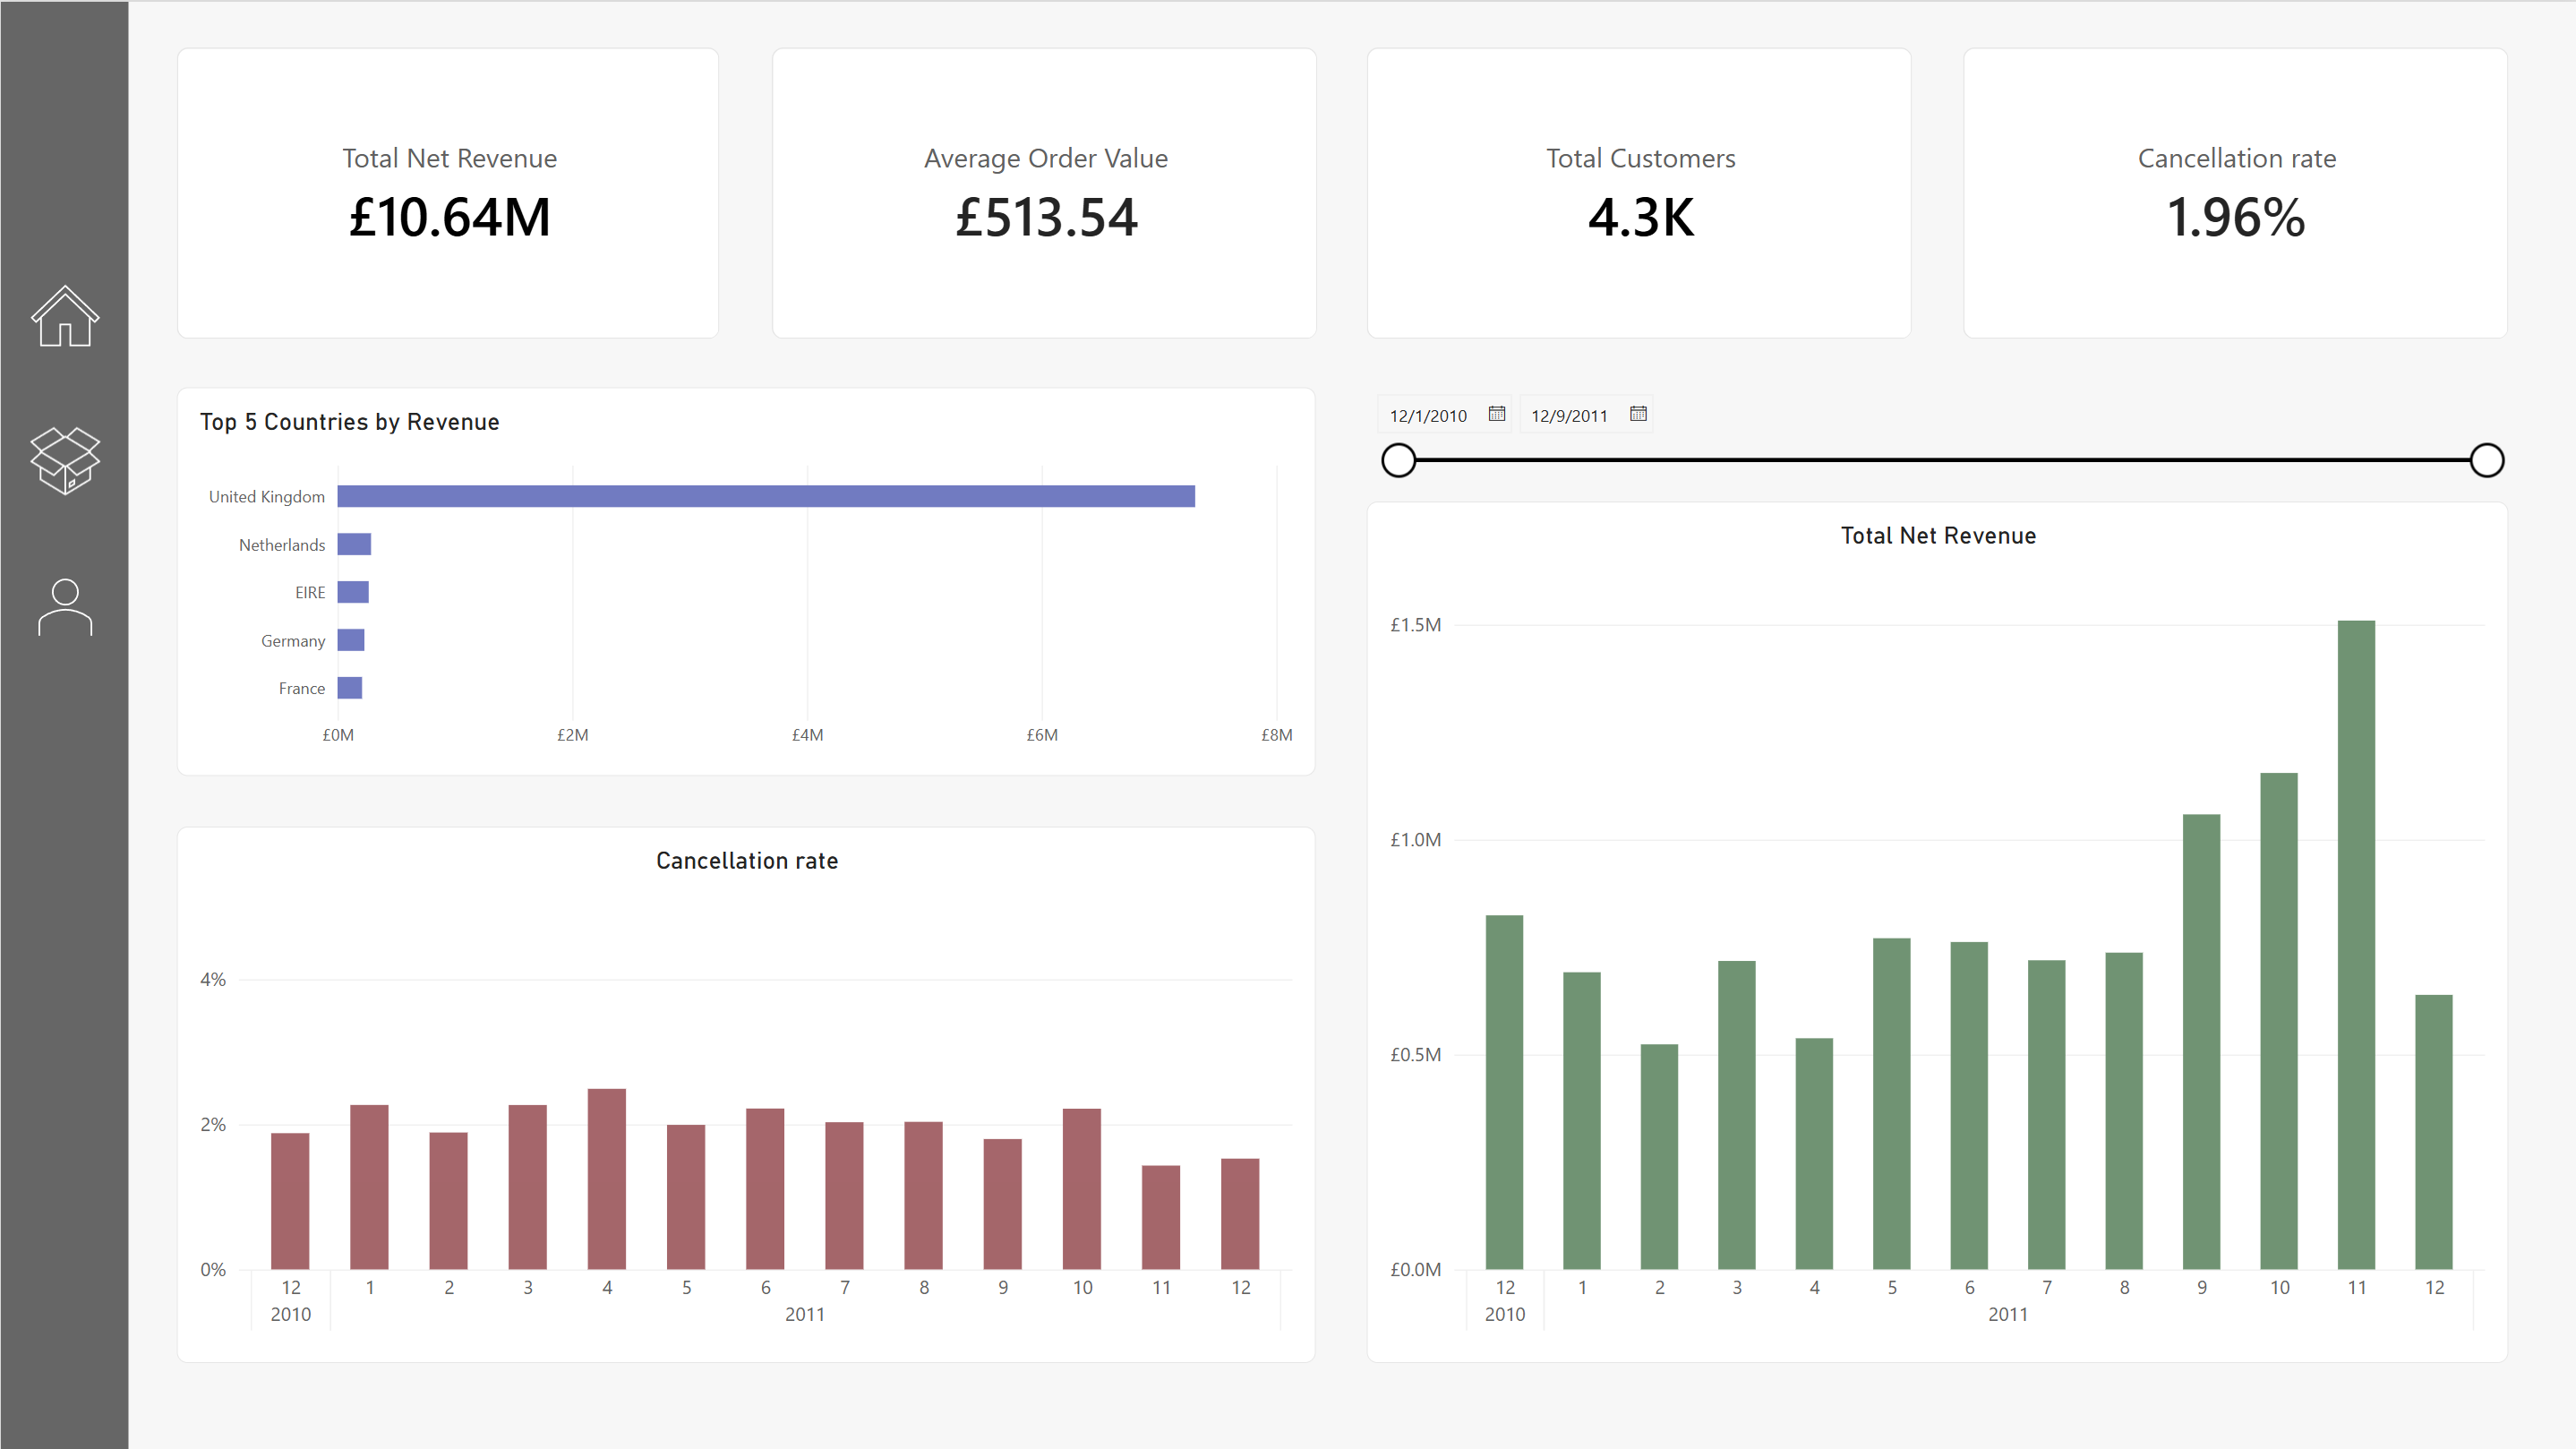

What the dashboard file says about the page in this screenshot:
{"tool":"powerbi","page":{"name":"Overview","canvas":[1920,1080],"ordinal":0},"visuals":[{"type":"cardVisual","fields":{"Data":["Measures Table.Total Net Revenue"]},"box":[130.5,34.1,404.7,216.9],"z":0},{"type":"cardVisual","fields":{"Data":["Measures Table.Average Order Value"]},"box":[574,34,405.7,216.9],"z":1000},{"type":"cardVisual","fields":{"Data":["Measures Table.Cancellation rate"]},"box":[1461,34,405.7,216.9],"z":2000},{"type":"shape","box":[0,0,94.7,1080],"z":3000},{"type":"clusteredColumnChart","title":"Total Net Revenue","fields":{"Category":["dim_date.year","dim_date.month"],"Y":["Measures Table.Total Net Revenue"]},"box":[1017.2,371.5,849.5,641.7],"z":4000},{"type":"slicer","fields":{"Values":["dim_date.date_key"]},"box":[1017.2,287.2,849.5,84.4],"z":5000},{"type":"cardVisual","fields":{"Data":["Measures Table.Total Customers"]},"box":[1017,34,405.7,216.9],"z":6000},{"type":"clusteredColumnChart","title":"Cancellation rate","fields":{"Category":["dim_date.year","dim_date.month"],"Y":["Measures Table.Cancellation rate"]},"box":[130.5,613.6,848.5,399.7],"z":7000},{"type":"clusteredBarChart","title":"Top 5 Countries by Revenue","fields":{"Category":["customers.country"],"Y":["Measures Table.Total Net Revenue"]},"box":[130.5,287.2,848.5,289.2],"z":8000},{"type":"actionButton","box":[0,287,95,109],"z":8001},{"type":"actionButton","box":[0,396,95,109],"z":8002},{"type":"actionButton","box":[0,178,95,109],"z":8003}]}

Visuals, with their boxes on the page's 1920x1080 design canvas (x1, y1, x2, y2). These are canvas units, not pixel positions in the 2576x1449 screenshot, which may show the page scaled, cropped or inside an application window:
cardVisual - Measures Table.Total Net Revenue: BBox(130, 34, 535, 251)
cardVisual - Measures Table.Average Order Value: BBox(574, 34, 980, 251)
cardVisual - Measures Table.Cancellation rate: BBox(1461, 34, 1867, 251)
shape: BBox(0, 0, 95, 1080)
"Total Net Revenue" clusteredColumnChart: BBox(1017, 372, 1867, 1013)
slicer - dim_date.date_key: BBox(1017, 287, 1867, 372)
cardVisual - Measures Table.Total Customers: BBox(1017, 34, 1423, 251)
"Cancellation rate" clusteredColumnChart: BBox(130, 614, 979, 1013)
"Top 5 Countries by Revenue" clusteredBarChart: BBox(130, 287, 979, 576)
actionButton: BBox(0, 287, 95, 396)
actionButton: BBox(0, 396, 95, 505)
actionButton: BBox(0, 178, 95, 287)
